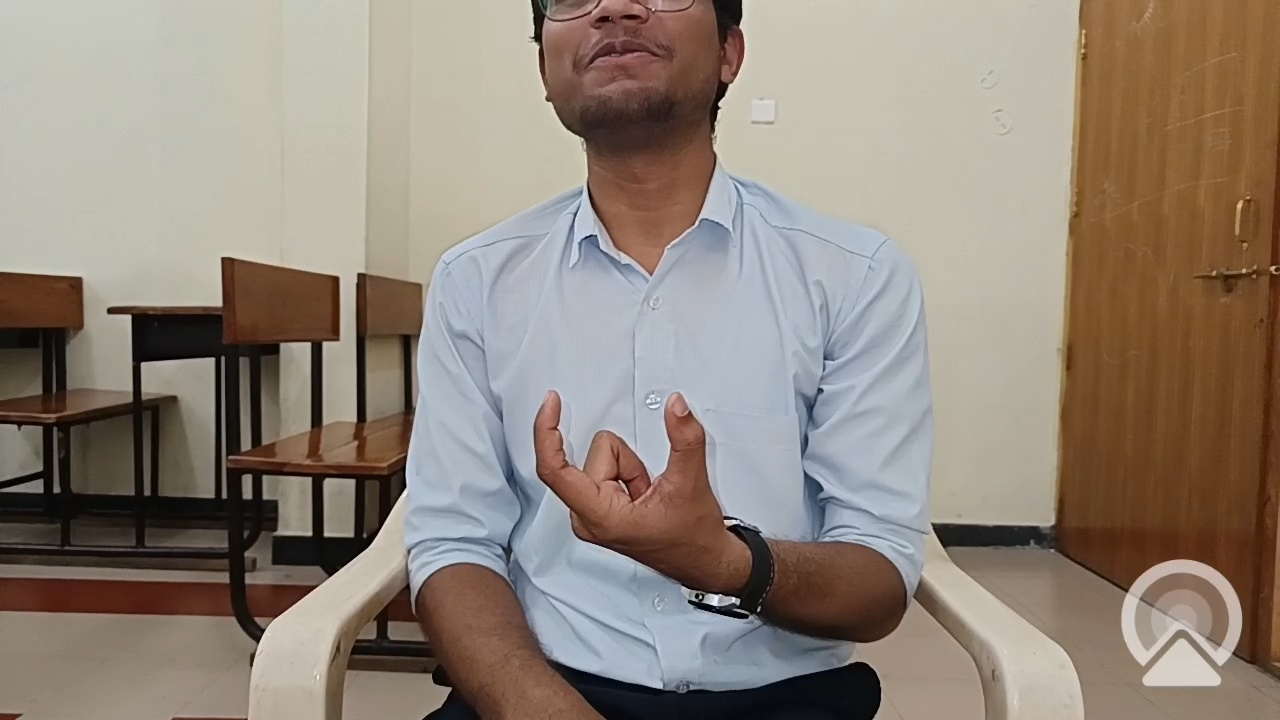U: (502, 341, 760, 638)
